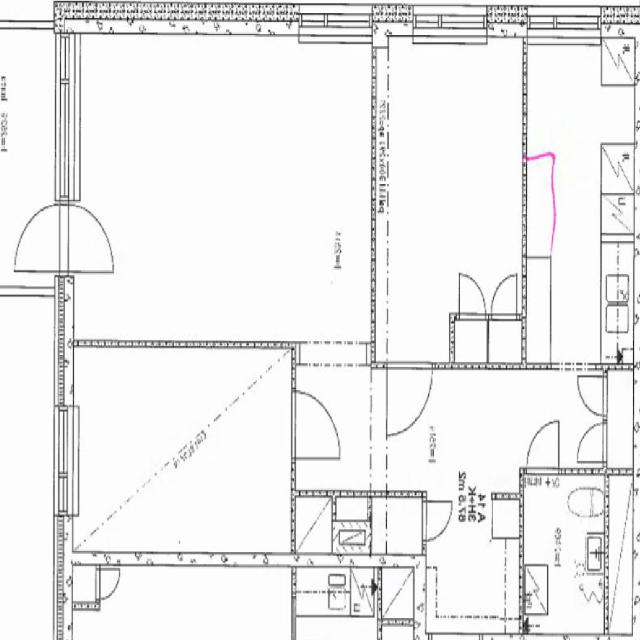door: (60, 204, 114, 272), (15, 204, 69, 272), (388, 362, 433, 438), (291, 390, 340, 458), (558, 362, 591, 420), (527, 421, 558, 475), (421, 500, 453, 541), (459, 273, 486, 320), (576, 376, 608, 414), (577, 422, 608, 461), (492, 276, 518, 320)
